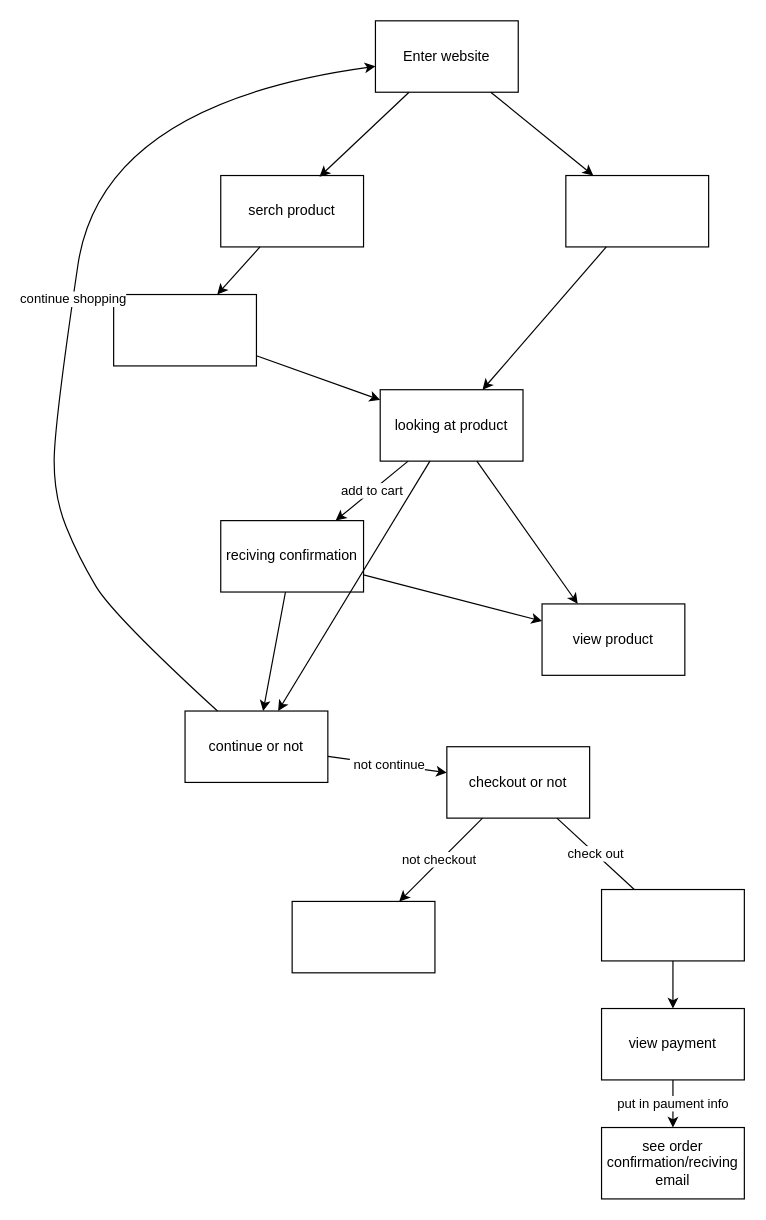
This 766x1220 diagram has some shape labels left out. Here are the shapes that lost their labels. From the top down, the centre of each, then its label:
(637,210): explor homepage
(184,329): input /find result
(363,936): leave cite
(672,924): view cart
